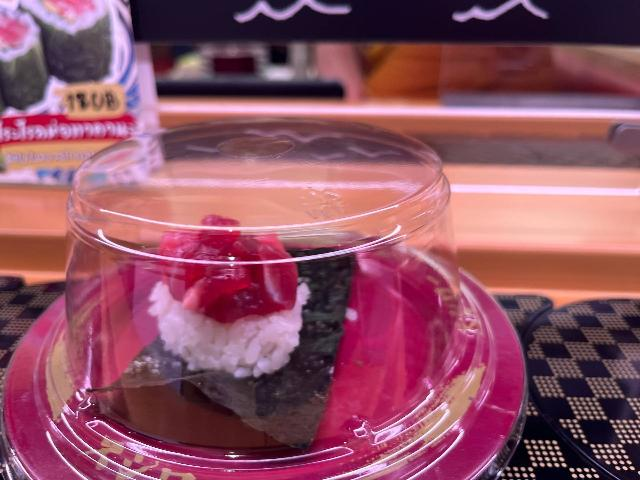janred: (55, 245, 500, 480)
